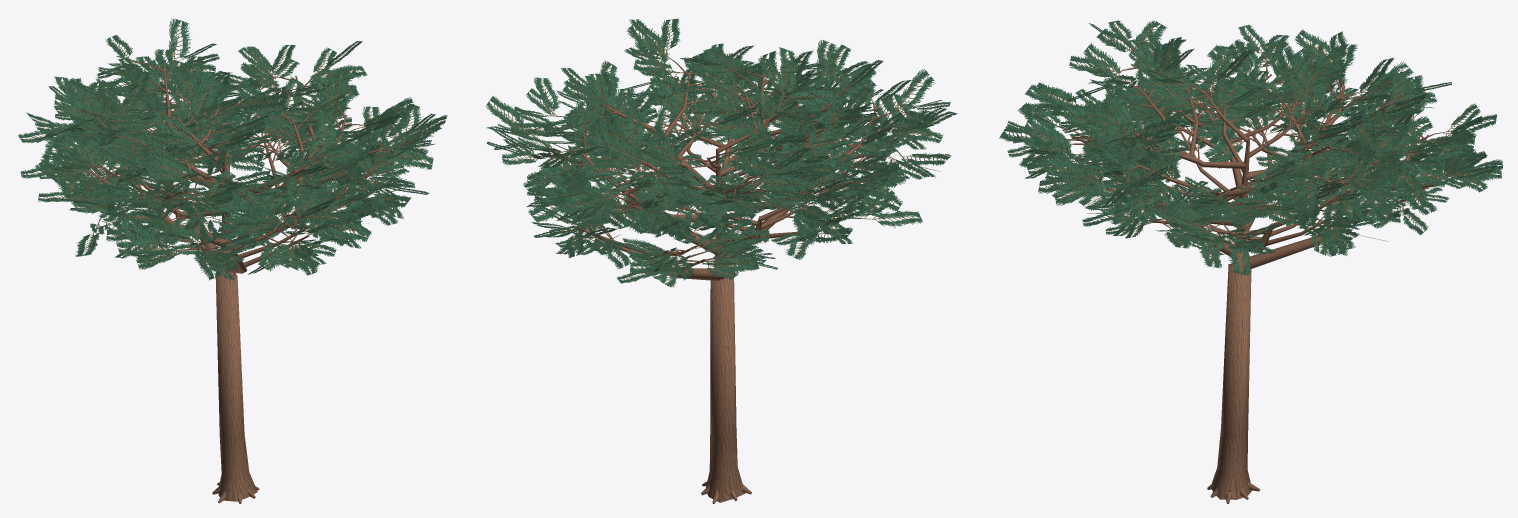
The model's file is pine_mid.glb.
3 views of the same model, side by side, from view 1: azimuth 30°, elevation 25°; view 2: azimuth 150°, elevation 25°; view 3: azimuth 270°, elevation 25° (orthographic). The views are drawn at different scales.
Parts seen in each view (by area): view 1: pine_mid; view 2: pine_mid; view 3: pine_mid.
Part boxes in pixels (x1,y1,x2,y2): pine_mid: (18, 18, 447, 503); pine_mid: (485, 18, 957, 503); pine_mid: (999, 20, 1502, 503).
Size of the model in its own units: 9.76 by 9.43 by 10.39.
Materials: 2 (2 with a texture image).
